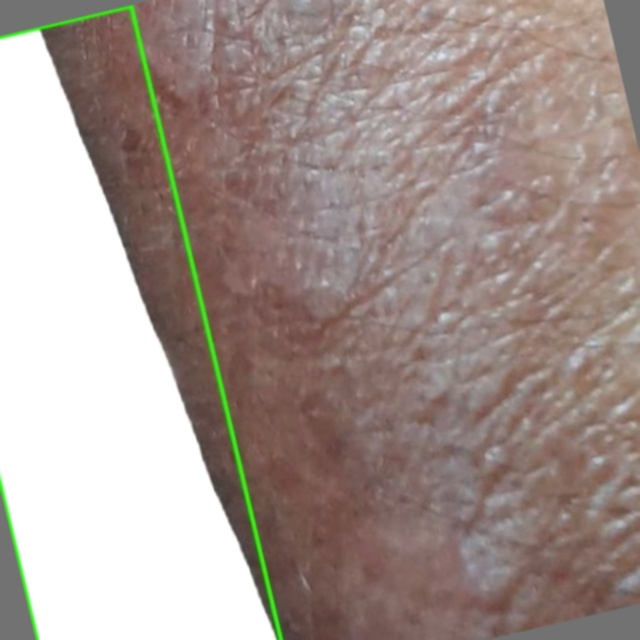Tinea Corporis: (0, 5, 280, 639)
